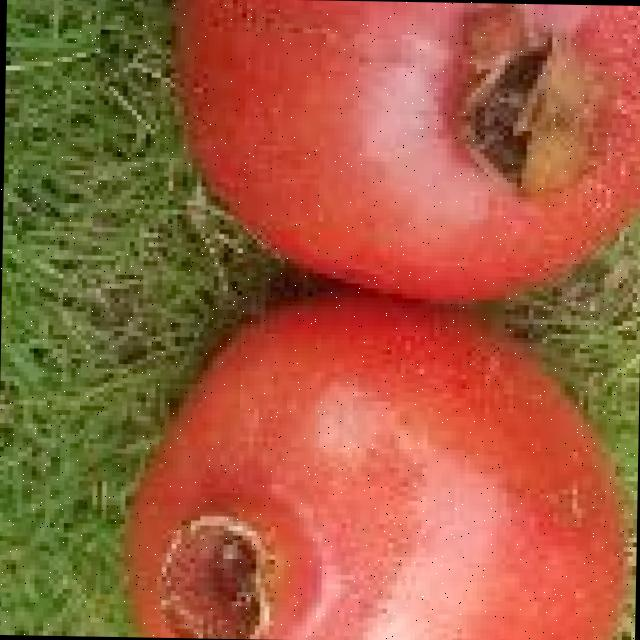Good_Lime-10-21 days: (112, 0, 640, 640)
